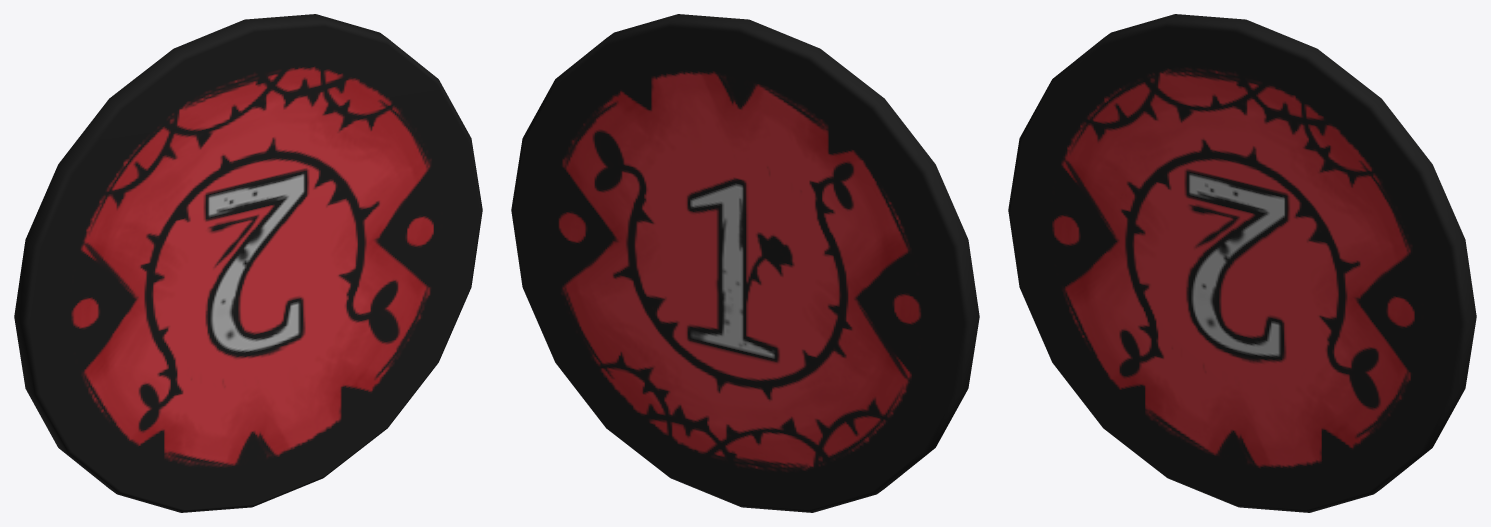
The model's file is d2-carrion.glb.
3 renders of one model, left to right at view 1: azimuth 30°, elevation 25°; view 2: azimuth 150°, elevation 25°; view 3: azimuth 330°, elevation 25°, orthographic.
Visible parts, largest first — view 1: Mesh_0; view 2: Mesh_0; view 3: Mesh_0.
Part boxes in pixels (x1,y1,x2,y2): Mesh_0: (14,14,482,512); Mesh_0: (511,14,979,512); Mesh_0: (1008,14,1476,512).
Bounding box in the file's own units: 182 × 182 × 9.11.
1 material, 1 textured.
